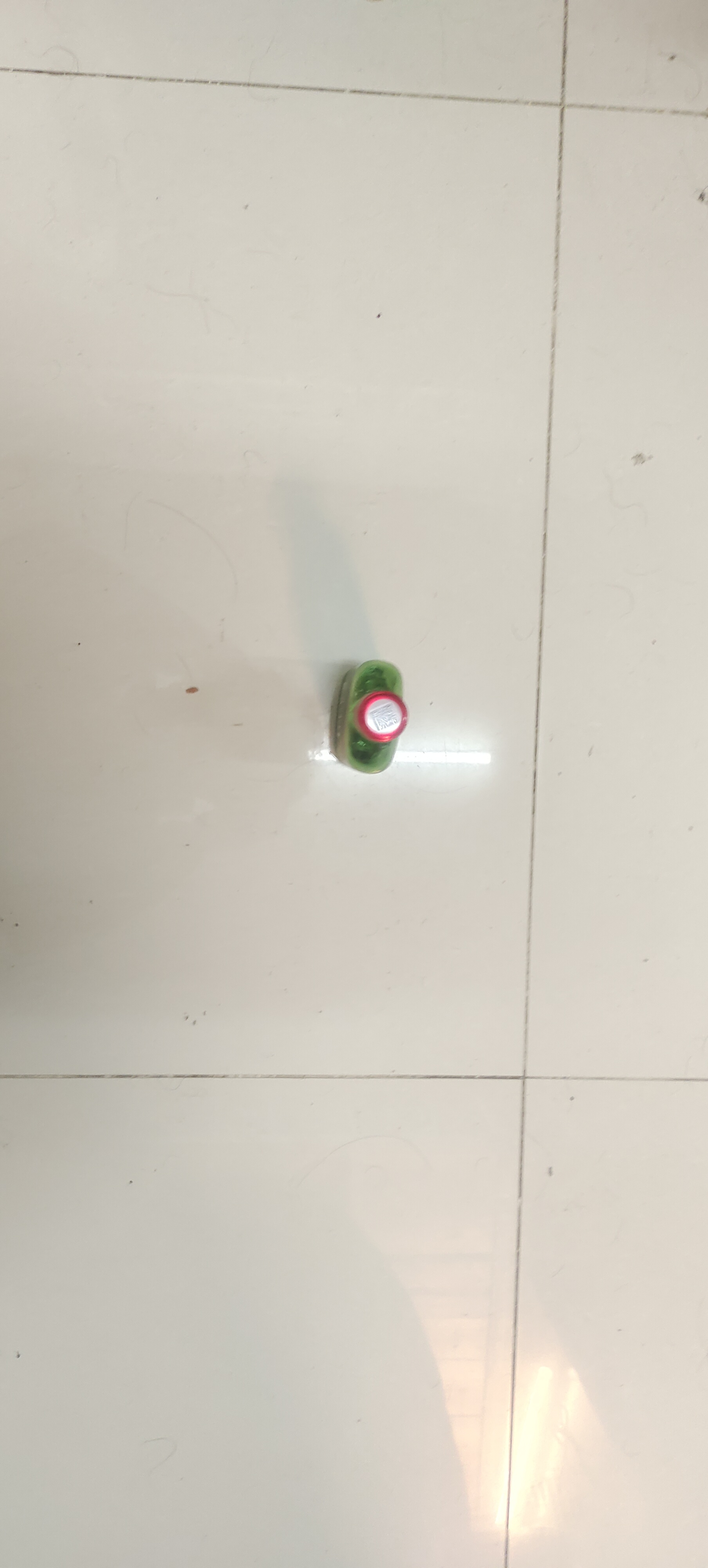redbull: (250, 598, 520, 915)
